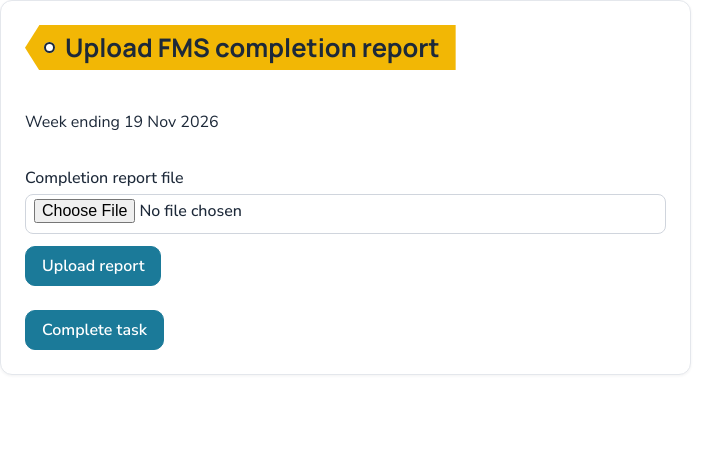
Test: UploadCompletionReport › BPA59_completingWithoutAReportIsBlockedBeforeTheCallIsMade
Check: the text "Week ending 19 Nov 2026" is shown, box [25, 111, 219, 133]
Click the button "Complete task" at (94, 330), box [25, 310, 164, 350]
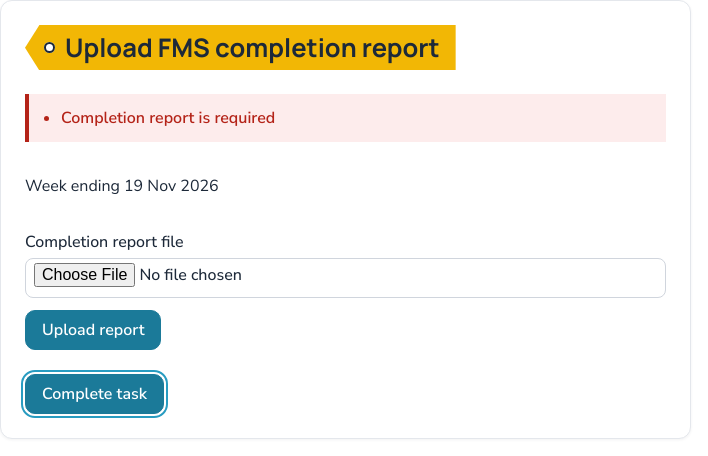
Check: the list item "Completion report is required" is shown, box [61, 107, 275, 129]
